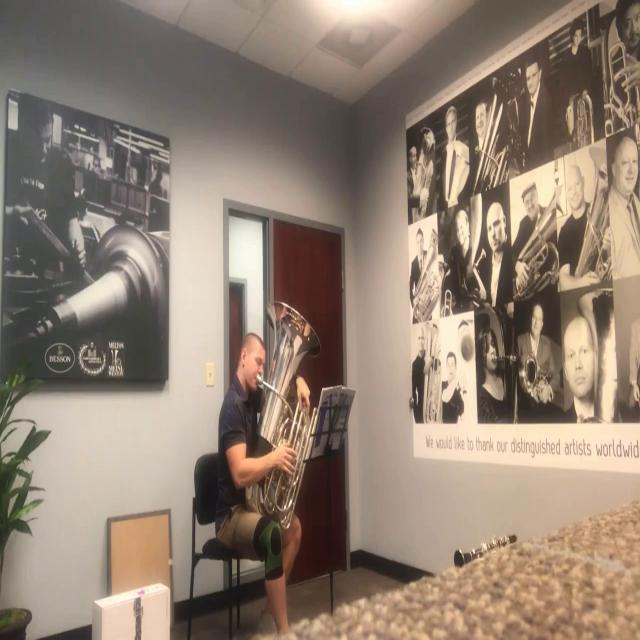Tuba: (255, 290, 320, 517)
